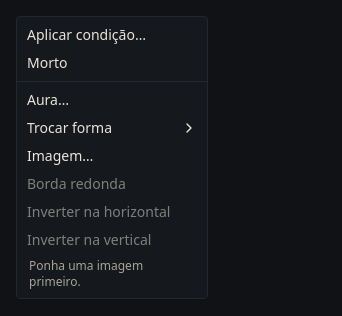
Scenario: TokenFormItems ("Trocar forma" in the token menu) › a player who created the token, with the key to create, also gets "Editar formas…"
Step 1. Click the menu item "Trocar forma" → (112, 128), box [21,114,203,142]
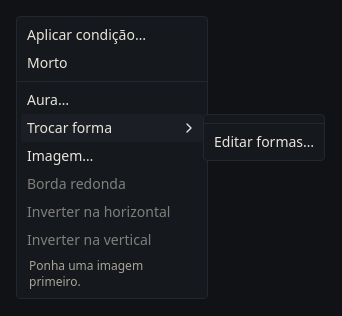
Now the menu item "Editar formas…" is shown, box [208,128,320,156]
